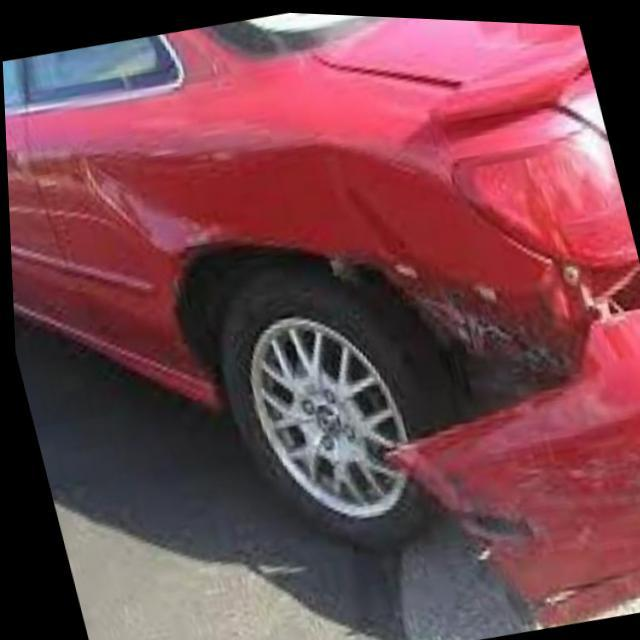dislocated part: (391, 300, 640, 622)
